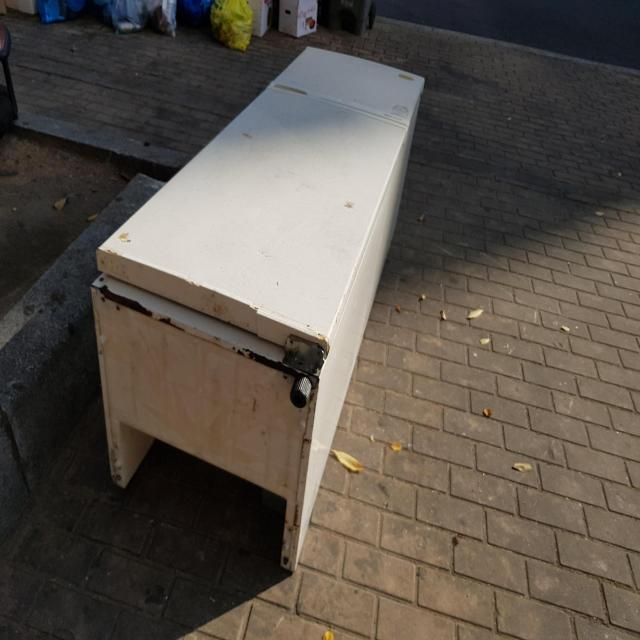refrigerator: (88, 40, 428, 578)
